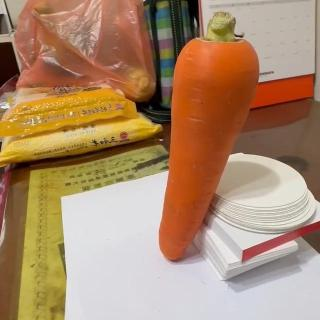carrot: (158, 12, 260, 264)
